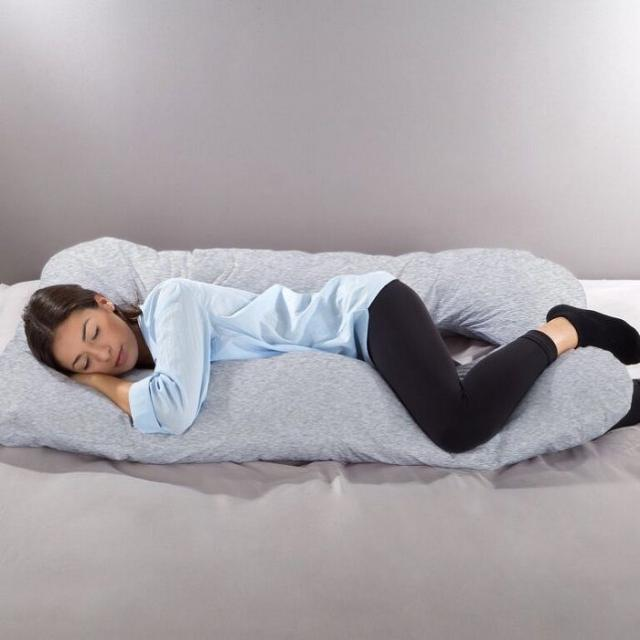people: (21, 251, 640, 502)
